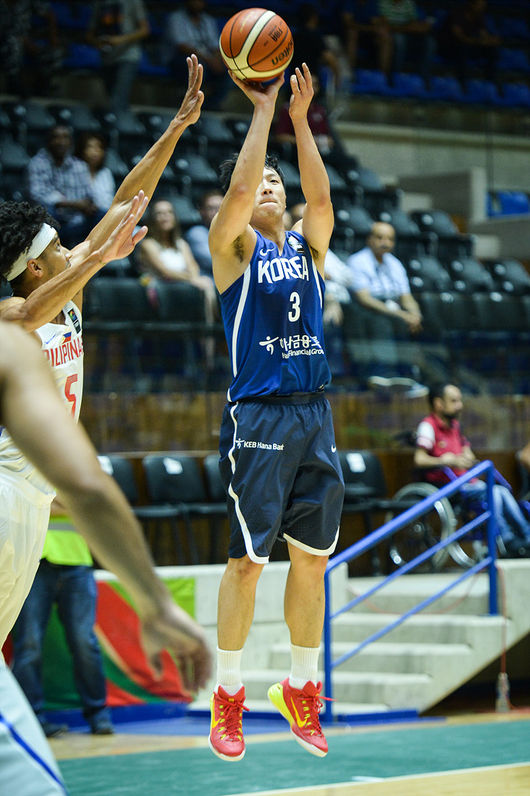shoot: (185, 5, 337, 767), (214, 5, 298, 92)
